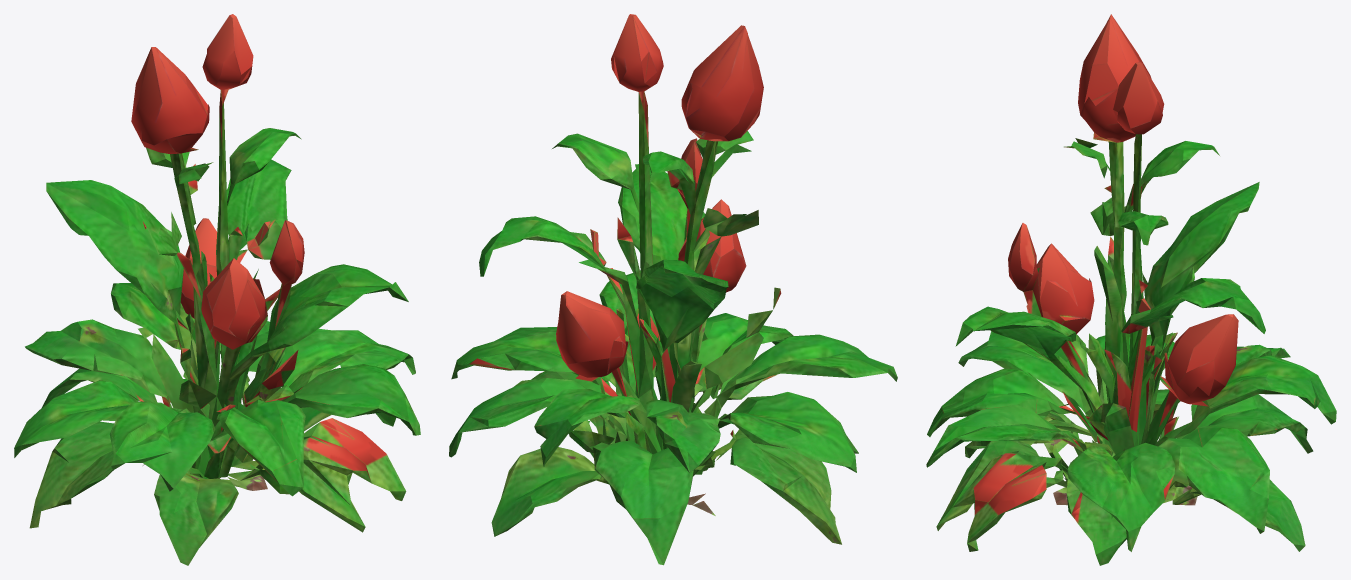
File: potion_plant.glb
3 renders of one model, left to right at view 1: azimuth 30°, elevation 25°; view 2: azimuth 150°, elevation 25°; view 3: azimuth 270°, elevation 25°, orthographic. The views are drawn at different scales.
Parts seen in each view (by area): view 1: geometry_0; view 2: geometry_0; view 3: geometry_0.
Boxes of the visible parts, box(x1,y1,x2,y2) form: geometry_0: box(14, 14, 420, 565); geometry_0: box(449, 14, 897, 565); geometry_0: box(926, 14, 1336, 565).
Bounding box in the file's own units: 1.7 × 1.9 × 1.51.
Materials: 1 (1 with a texture image).
